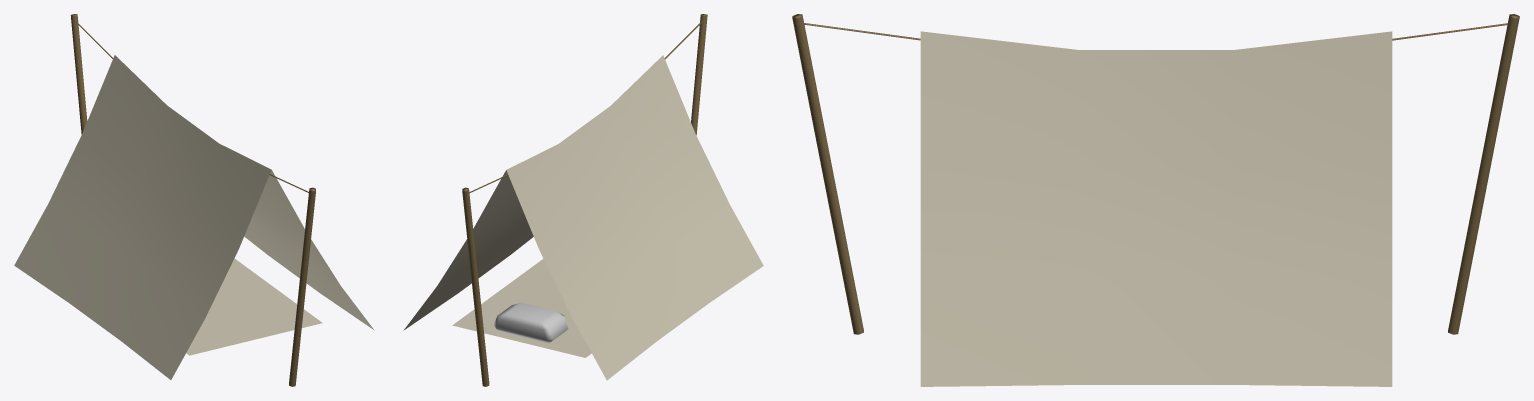
Rendered from Tent.fbx.
3 views of the same model, side by side, from view 1: azimuth 30°, elevation 25°; view 2: azimuth 150°, elevation 25°; view 3: azimuth 270°, elevation 25° (orthographic). The views are drawn at different scales.
Parts seen in each view (by area): view 1: Tent; view 2: Tent; view 3: Tent.
Boxes of the visible parts, x1=… form: Tent: x1=14, y1=14, x2=374, y2=386; Tent: x1=403, y1=14, x2=763, y2=386; Tent: x1=792, y1=14, x2=1519, y2=386.
Size of the model in its own units: 3 by 2.97 by 6.17.
